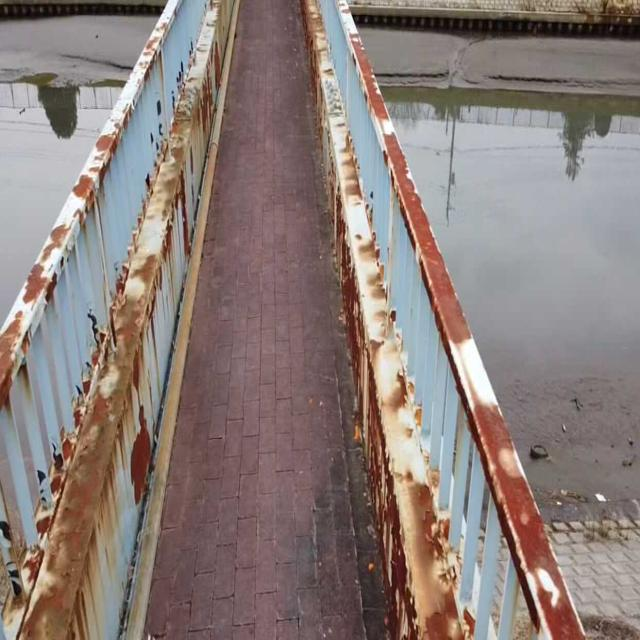corrosion: (7, 22, 222, 637), (327, 100, 544, 640)
